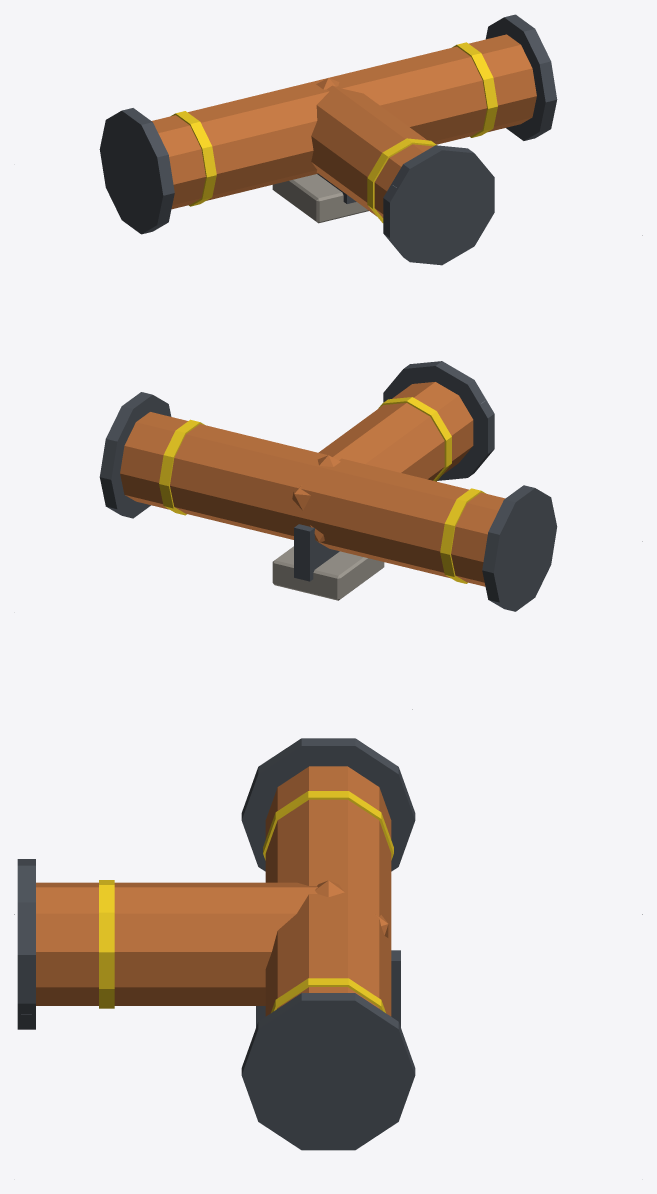
The model's file is tuyau_te_t1.glb.
The picture shows the model from 3 angles, top to bottom: view 1: azimuth 30°, elevation 25°; view 2: azimuth 150°, elevation 25°; view 3: azimuth 270°, elevation 25°; orthographic projection. The views are drawn at different scales.
Visible parts, largest first — view 1: pieces_cuivre.020, pieces_acier_sombre.050, pieces_rive_t1.016, pieces_beton.030; view 2: pieces_cuivre.020, pieces_acier_sombre.050, pieces_rive_t1.016, pieces_beton.030; view 3: pieces_cuivre.020, pieces_acier_sombre.050, pieces_rive_t1.016.
Boxes of the visible parts, x1,y1,x2,y2 form: pieces_cuivre.020: (152,34,536,217); pieces_acier_sombre.050: (99,14,557,265); pieces_rive_t1.016: (171,42,497,222); pieces_beton.030: (272,174,368,223); pieces_cuivre.020: (120,382,505,586); pieces_acier_sombre.050: (99,361,557,611); pieces_rive_t1.016: (159,397,485,583); pieces_beton.030: (272,546,384,600); pieces_cuivre.020: (36,766,391,1016); pieces_acier_sombre.050: (17,738,415,1150); pieces_rive_t1.016: (99,791,393,1012).
Bounding box in the file's own units: 1 × 0.318 × 1.
